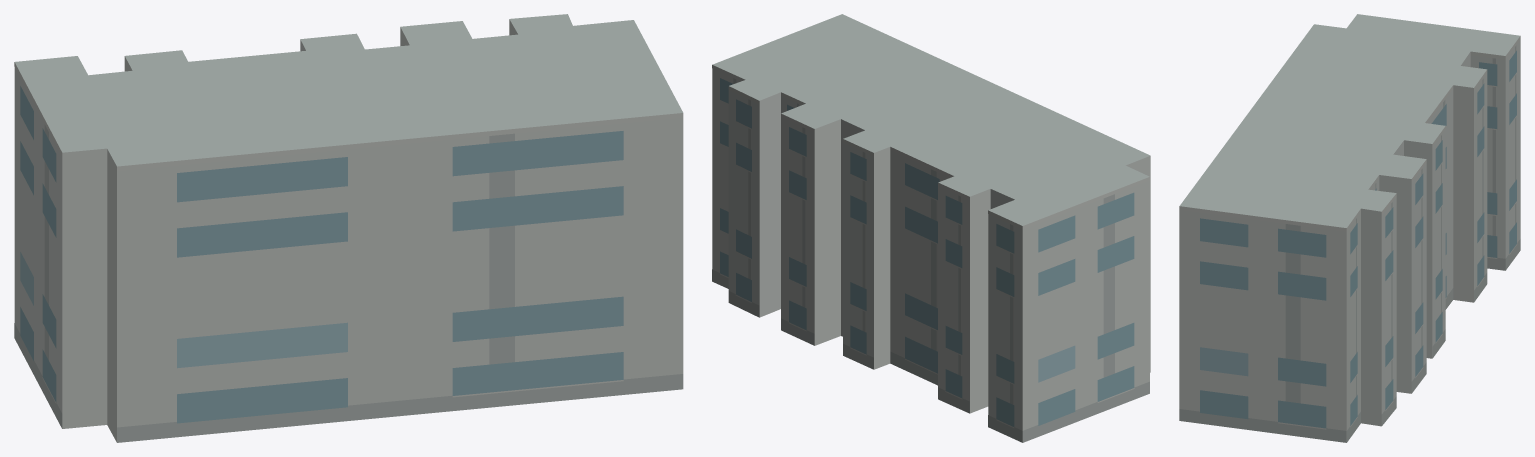
Rendered from survey-upis-32805406.glb.
The picture shows the model from 3 angles, left to right: view 1: azimuth 30°, elevation 25°; view 2: azimuth 150°, elevation 25°; view 3: azimuth 270°, elevation 25°; orthographic projection. The views are drawn at different scales.
Parts seen in each view (by area): view 1: survey-upis-32805406.tmp; view 2: survey-upis-32805406.tmp; view 3: survey-upis-32805406.tmp.
Part boxes in pixels (left/top/right/bottom): survey-upis-32805406.tmp: left=14, top=14, right=683, bottom=442; survey-upis-32805406.tmp: left=712, top=14, right=1150, bottom=442; survey-upis-32805406.tmp: left=1179, top=14, right=1520, bottom=442.
Size of the model in its own units: 29.99 by 14.02 by 20.19.
